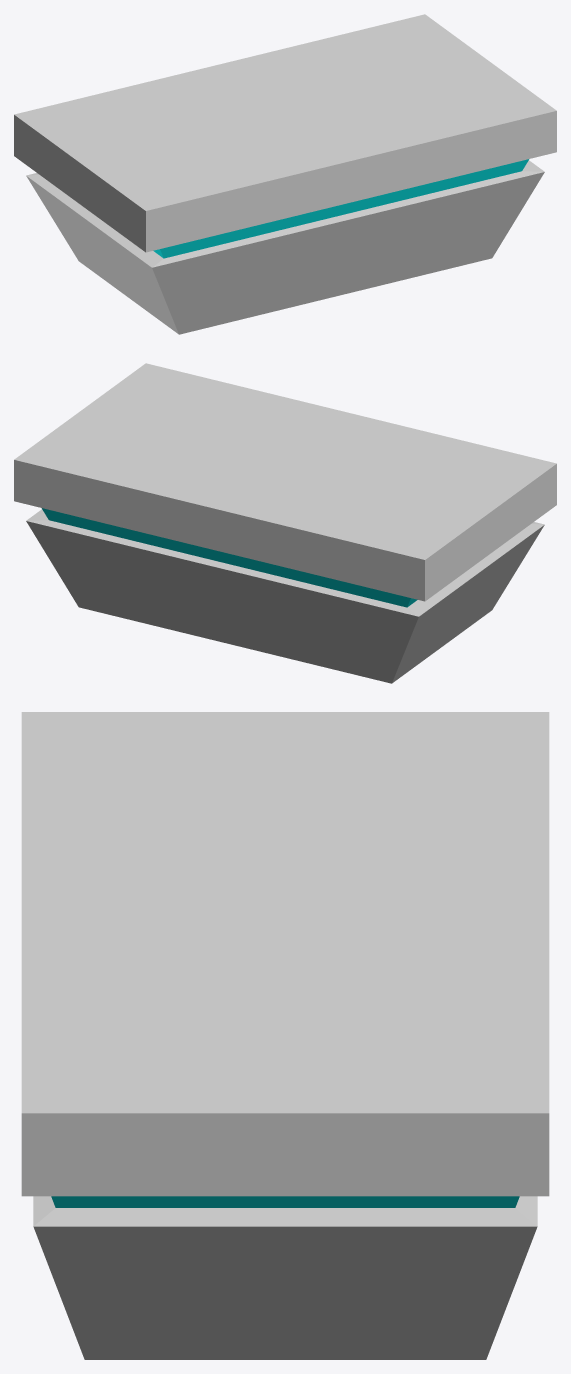
The model's file is Ground_2.fbx.
3 views of the same model, one above another, from view 1: azimuth 30°, elevation 25°; view 2: azimuth 150°, elevation 25°; view 3: azimuth 270°, elevation 25° (orthographic). The views are drawn at different scales.
Visible parts, largest first — view 1: Ground_2; view 2: Ground_2; view 3: Ground_2.
Part boxes in pixels (box(x1,y1,x2,y2)): Ground_2: box(14, 14, 556, 334); Ground_2: box(14, 363, 556, 683); Ground_2: box(21, 712, 549, 1359).
Size of the model in its own units: 4.5 by 1.54 by 2.5.
